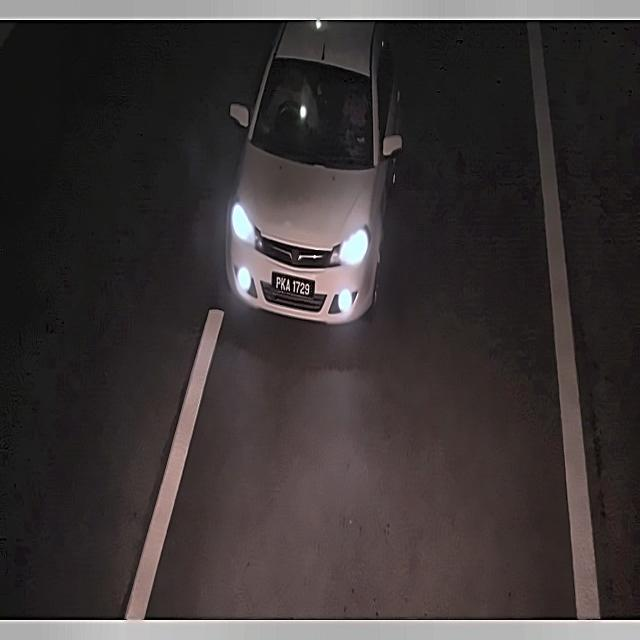car: (267, 268, 316, 301)
